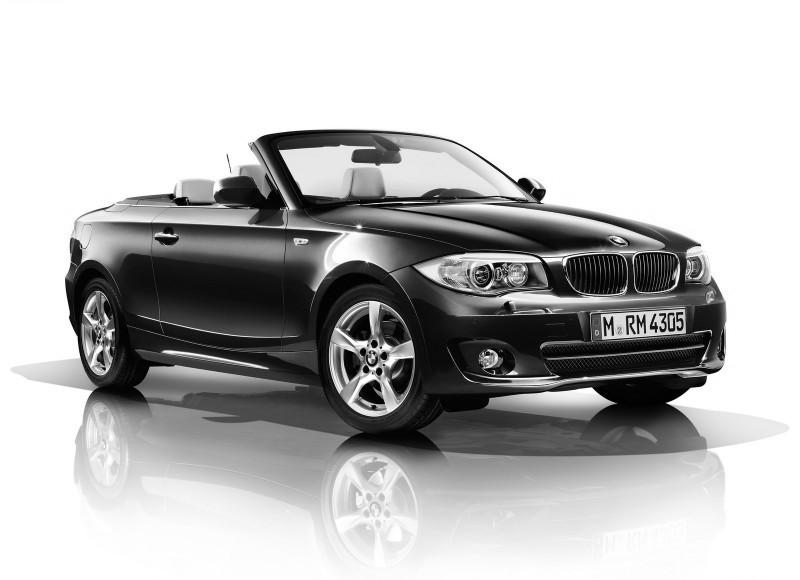car: (62, 127, 732, 442)
